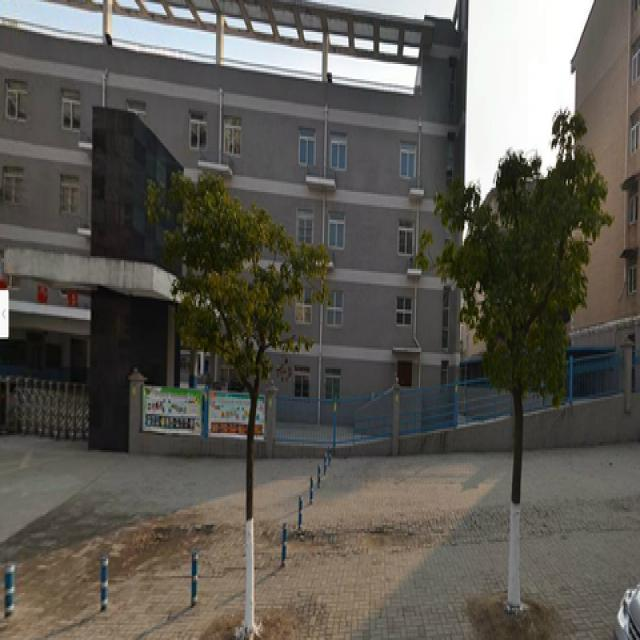cinn: (160, 168, 311, 614), (451, 141, 592, 618)
